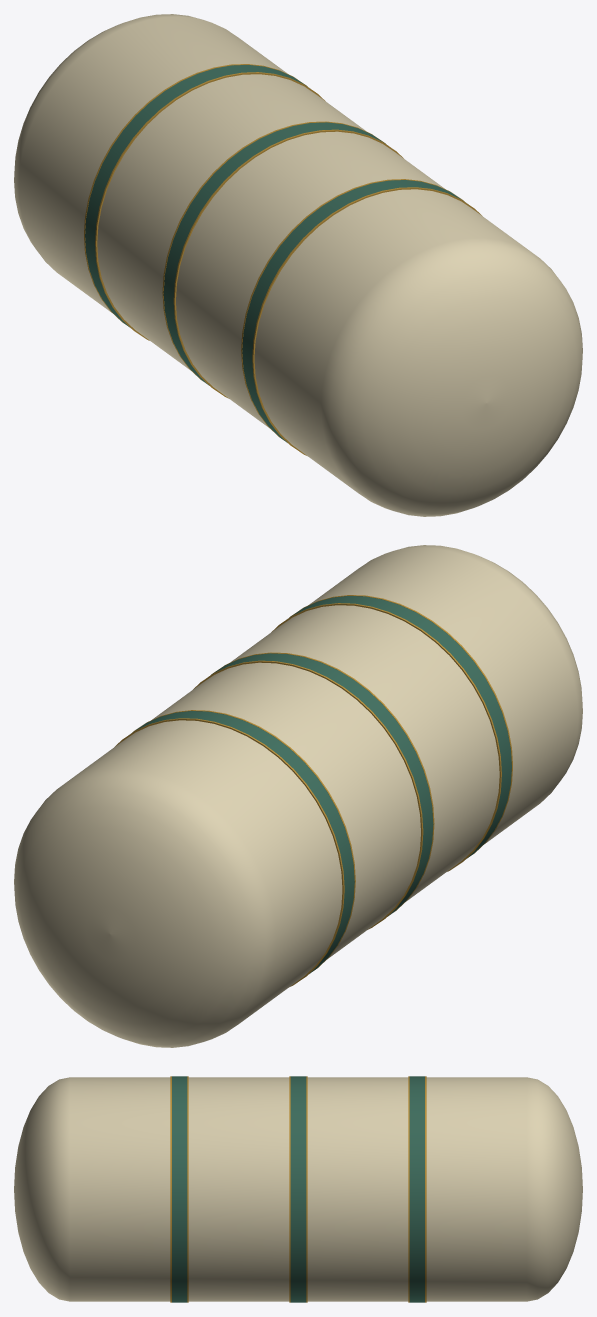
File: tank4200_tank.obj
The picture shows the model from 3 angles, top to bottom: view 1: azimuth 30°, elevation 25°; view 2: azimuth 150°, elevation 25°; view 3: azimuth 270°, elevation 25°; orthographic projection. The views are drawn at different scales.
Parts seen in each view (by area): view 1: tank4200_tank; view 2: tank4200_tank; view 3: tank4200_tank.
Boxes of the visible parts, box(x1,y1,x2,y2) form: tank4200_tank: box(14, 14, 582, 516); tank4200_tank: box(14, 545, 582, 1047); tank4200_tank: box(14, 1076, 582, 1302).
Bounding box in the file's own units: 12.12 × 12.12 × 30.4.
